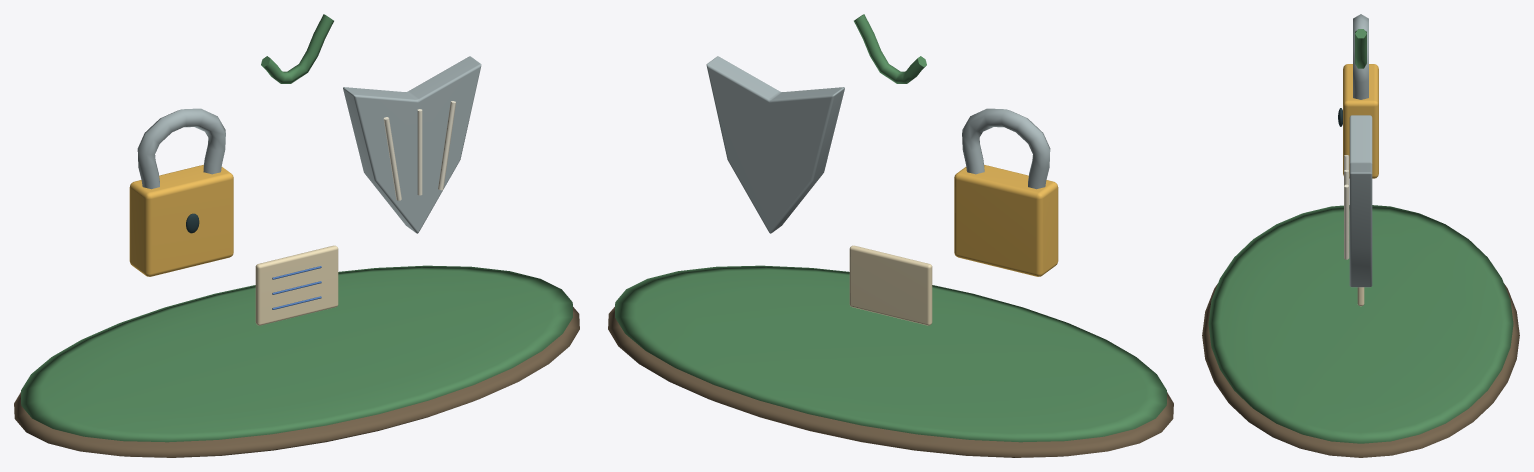
The model's file is complete-first-must-finish.glb.
3 views of the same model, side by side, from view 1: azimuth 30°, elevation 25°; view 2: azimuth 150°, elevation 25°; view 3: azimuth 270°, elevation 25° (orthographic). The views are drawn at different scales.
Parts seen in each view (by area): view 1: complete-first-must-finish_surface_01, complete-first-must-finish_surface_03, complete-first-must-finish_surface_00, complete-first-must-finish_surface_02, complete-first-must-finish_surface_06, complete-first-must-finish_surface_05; view 2: complete-first-must-finish_surface_01, complete-first-must-finish_surface_03, complete-first-must-finish_surface_00, complete-first-must-finish_surface_02, complete-first-must-finish_surface_06; view 3: complete-first-must-finish_surface_01, complete-first-must-finish_surface_00, complete-first-must-finish_surface_03, complete-first-must-finish_surface_02, complete-first-must-finish_surface_05.
Boxes of the visible parts, x1,y1,x2,y2 form: complete-first-must-finish_surface_01: (21,14,572,442); complete-first-must-finish_surface_03: (137,56,481,233); complete-first-must-finish_surface_00: (14,307,579,457); complete-first-must-finish_surface_02: (129,164,233,276); complete-first-must-finish_surface_06: (255,245,338,325); complete-first-must-finish_surface_05: (383,101,456,200); complete-first-must-finish_surface_01: (615,14,1166,442); complete-first-must-finish_surface_03: (706,56,1050,233); complete-first-must-finish_surface_00: (608,307,1173,457); complete-first-must-finish_surface_02: (954,164,1058,276); complete-first-must-finish_surface_06: (849,245,932,325); complete-first-must-finish_surface_01: (1208,29,1513,443); complete-first-must-finish_surface_00: (1202,283,1519,457); complete-first-must-finish_surface_03: (1349,14,1372,287); complete-first-must-finish_surface_02: (1343,64,1378,178); complete-first-must-finish_surface_05: (1344,155,1349,259).
Size of the model in its own units: 4.56 by 2.9 by 2.5.
